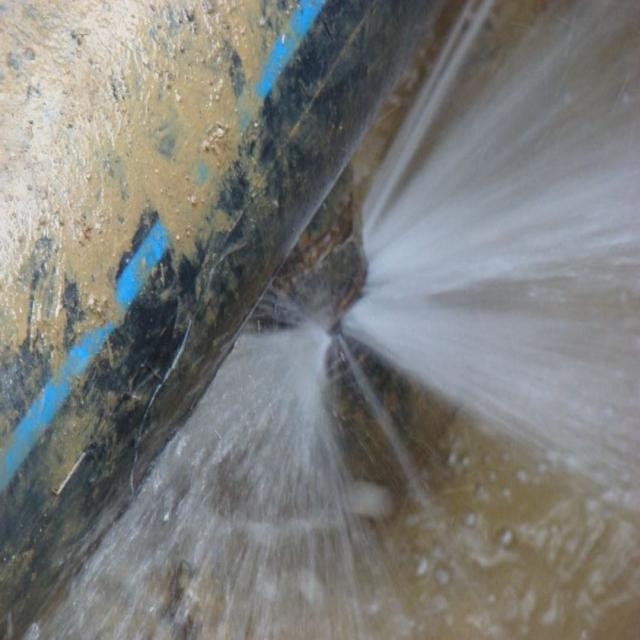leak: (31, 3, 640, 639)
